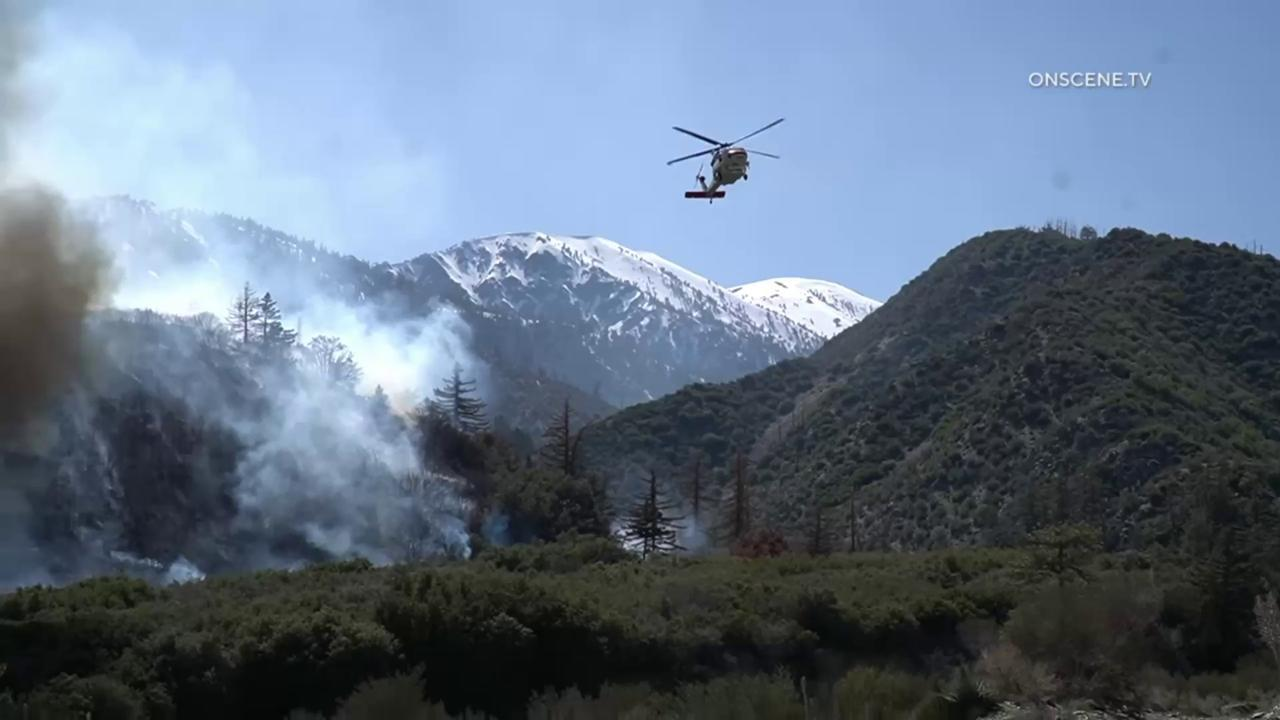smoke: (0, 0, 511, 592), (609, 470, 709, 560)
